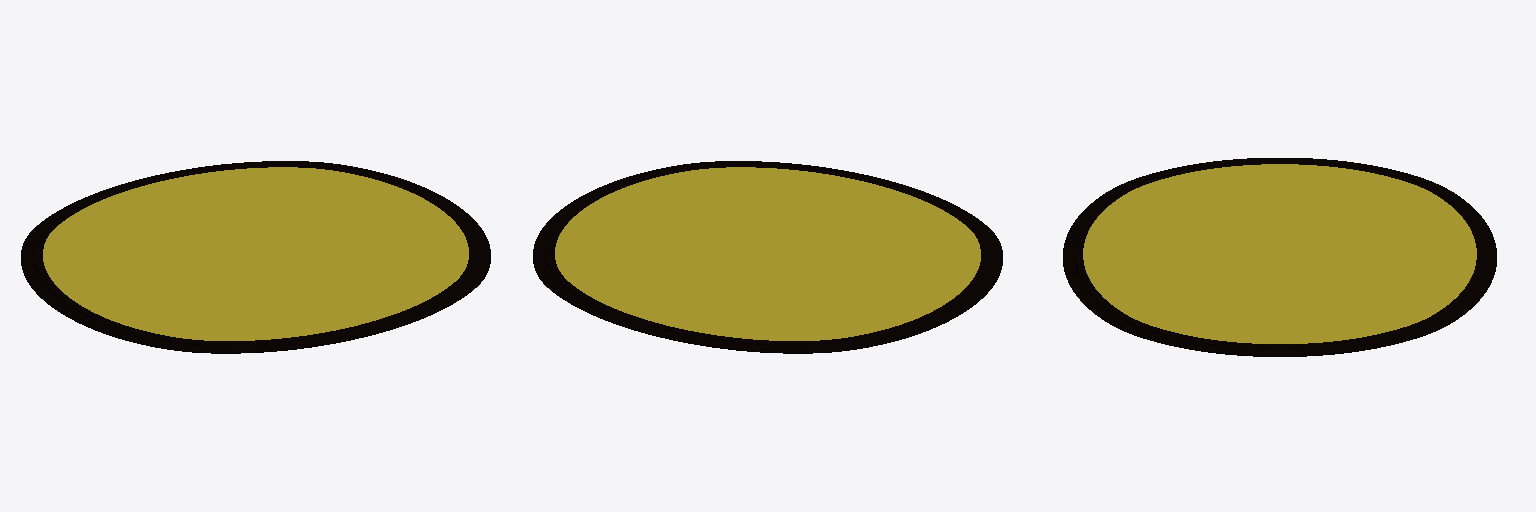
The model's file is bagianbawah3.obj.
3 renders of one model, left to right at view 1: azimuth 30°, elevation 25°; view 2: azimuth 150°, elevation 25°; view 3: azimuth 270°, elevation 25°, orthographic.
Parts seen in each view (by area): view 1: Plane.001_Plane.006; view 2: Plane.001_Plane.006; view 3: Plane.001_Plane.006.
Part boxes in pixels (bbox=[...]): Plane.001_Plane.006: bbox=[21, 161, 490, 353]; Plane.001_Plane.006: bbox=[533, 161, 1002, 353]; Plane.001_Plane.006: bbox=[1063, 158, 1496, 356].
Bounding box in the file's own units: 176 × 1.52 × 163.